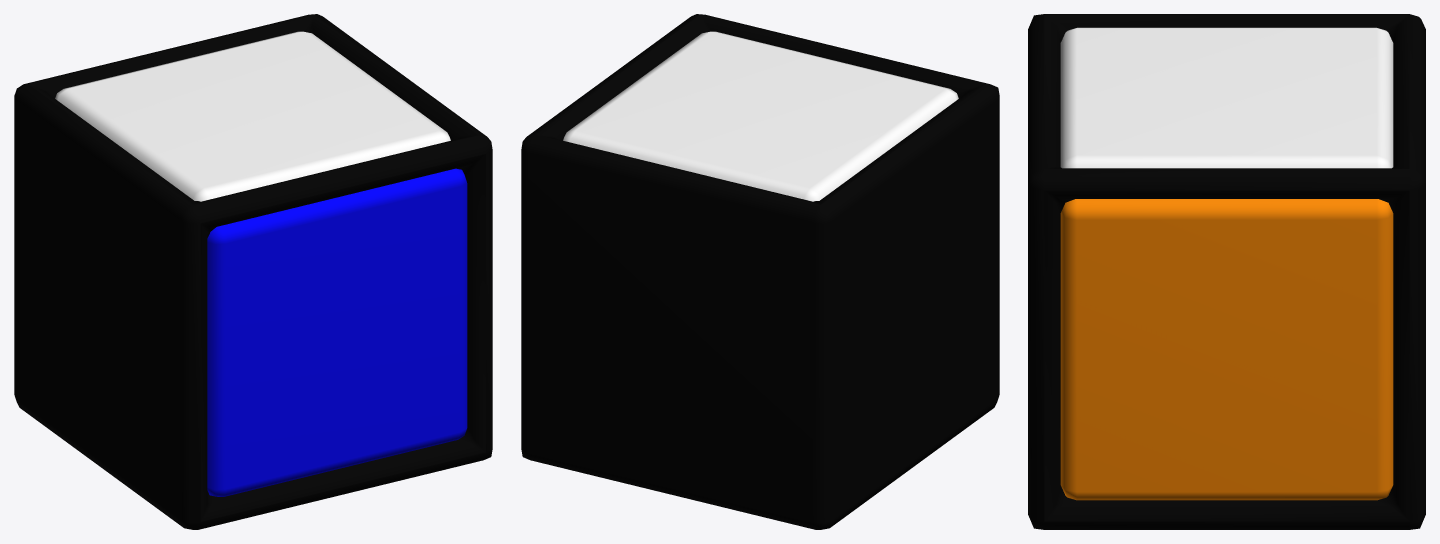
3 renders of one model, left to right at view 1: azimuth 30°, elevation 25°; view 2: azimuth 150°, elevation 25°; view 3: azimuth 270°, elevation 25°, orthographic. The views are drawn at different scales.
Parts seen in each view (by area): view 1: Cube.020; view 2: Cube.020; view 3: Cube.020.
Boxes of the visible parts, bbox=[...] form: Cube.020: bbox=[14, 14, 492, 529]; Cube.020: bbox=[521, 14, 999, 529]; Cube.020: bbox=[1028, 14, 1425, 529].
Size of the model in its own units: 2 by 2 by 2.
